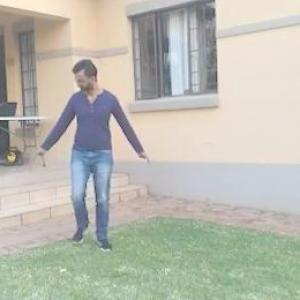land: (26, 47, 160, 266)
